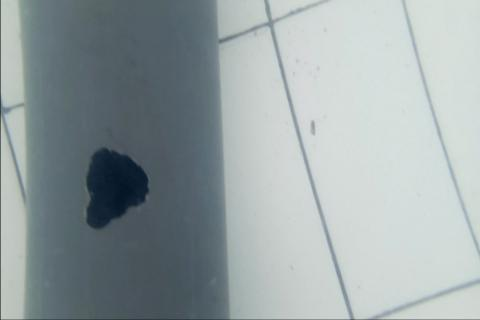kebocoran: (83, 146, 151, 234)
